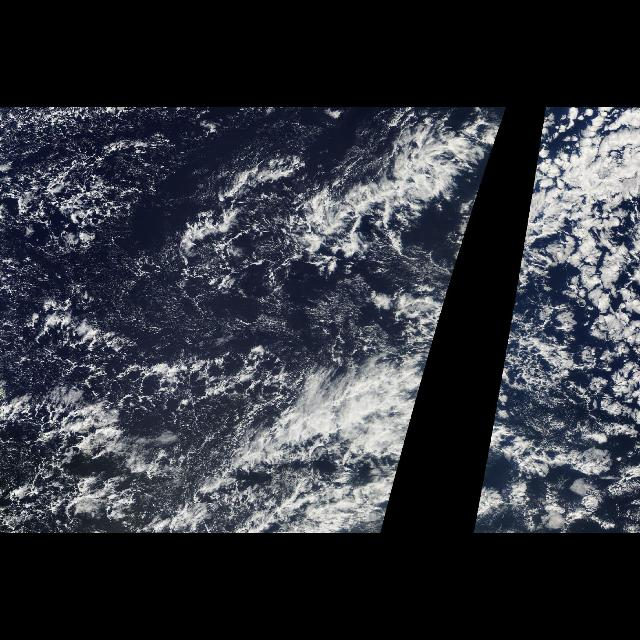Fish: (287, 110, 505, 288), (237, 320, 441, 480), (484, 361, 504, 481)
Gravel: (1, 108, 422, 524)
Sugar: (5, 115, 278, 442)
